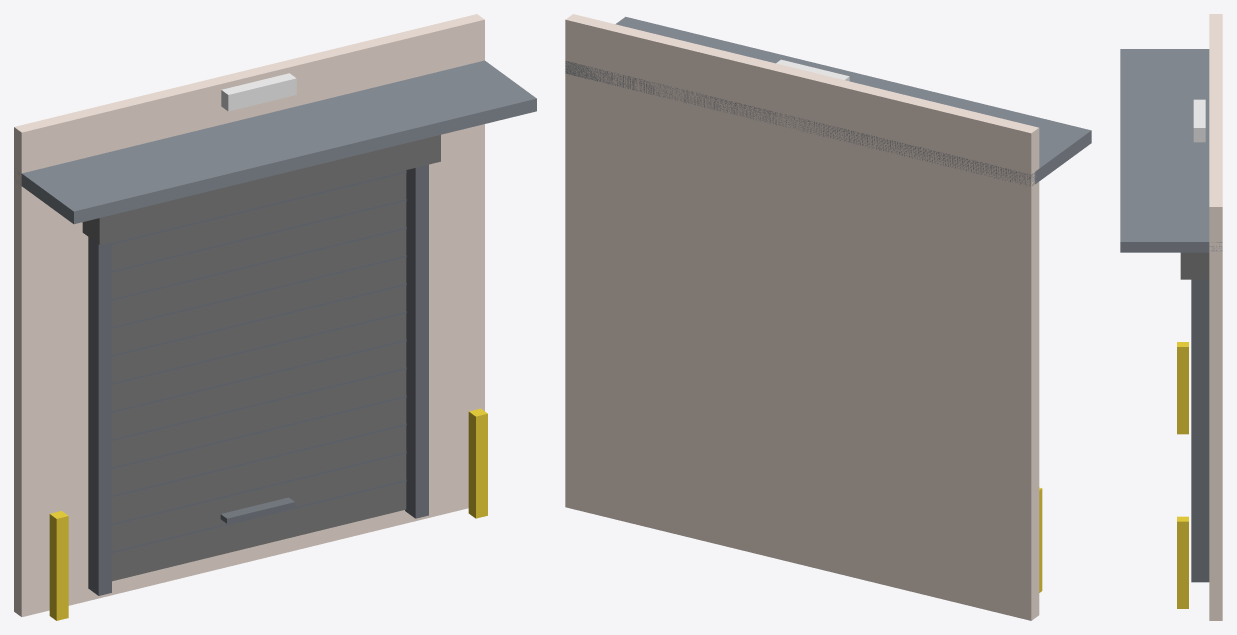
File: entrance_close.fbx
3 renders of one model, left to right at view 1: azimuth 30°, elevation 25°; view 2: azimuth 150°, elevation 25°; view 3: azimuth 270°, elevation 25°, orthographic. The views are drawn at different scales.
Visible parts, largest first — view 1: a2004/0/entrance_close; view 2: a2004/0/entrance_close; view 3: a2004/0/entrance_close.
Boxes of the visible parts, left/top/right/bottom form: a2004/0/entrance_close: left=14, top=14, right=536, bottom=620; a2004/0/entrance_close: left=565, top=14, right=1091, bottom=620; a2004/0/entrance_close: left=1120, top=14, right=1222, bottom=620.
Size of the model in its own units: 3.8 by 3.8 by 0.85.
